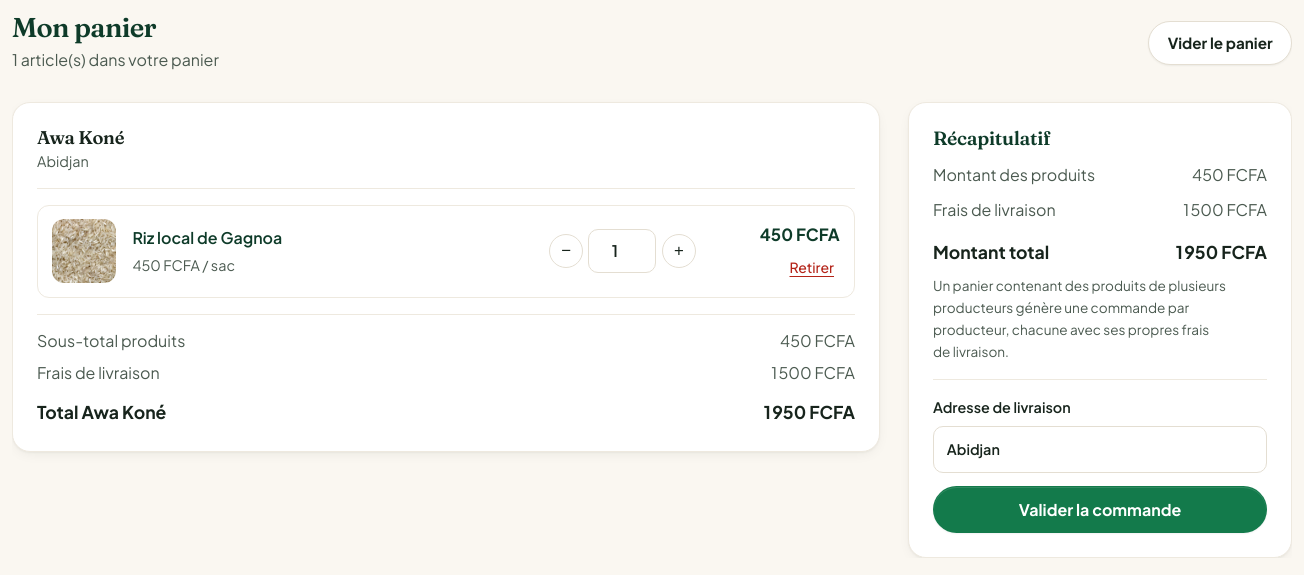
Test: PanierComponent (task 6.7) › vide le panier depuis le bouton dédié
Click the button "Vider le panier". click: [1220, 43]
box: [1148,21,1292,65]
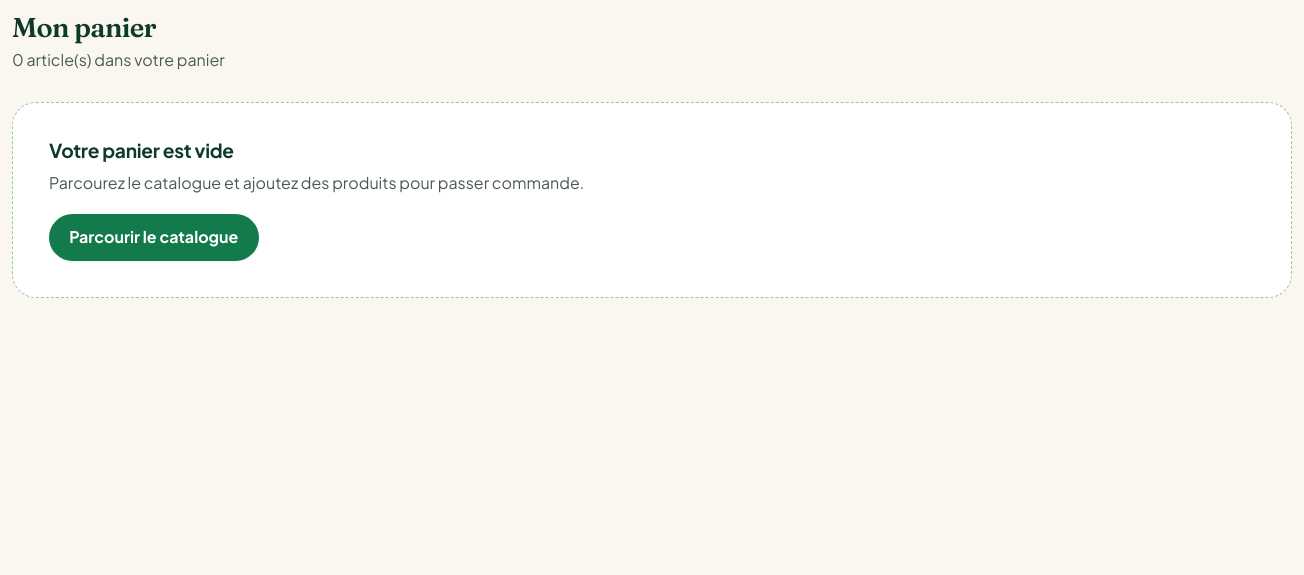
Expected: the text "Votre panier est vide" is shown, [49,139,234,161]
